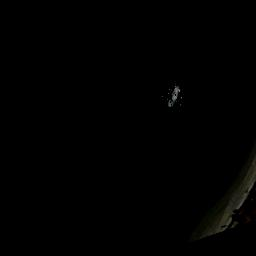boat: (160, 82, 186, 110)
